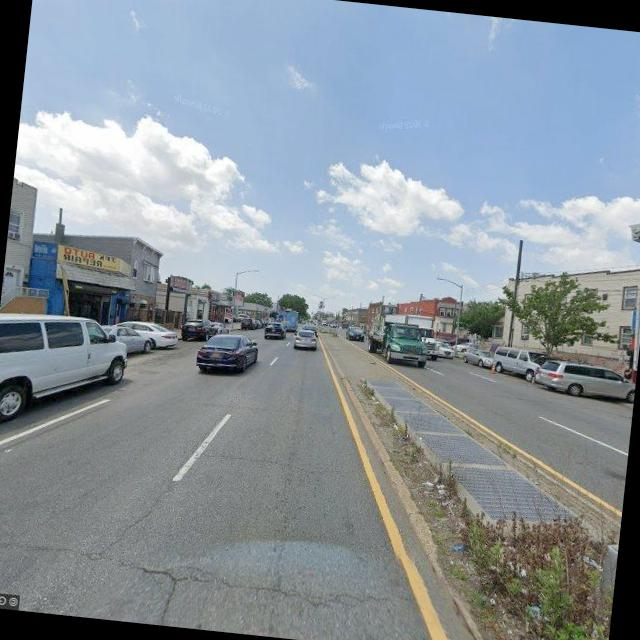crack: (13, 538, 415, 612), (198, 442, 362, 480), (104, 496, 162, 557), (156, 572, 182, 624)
